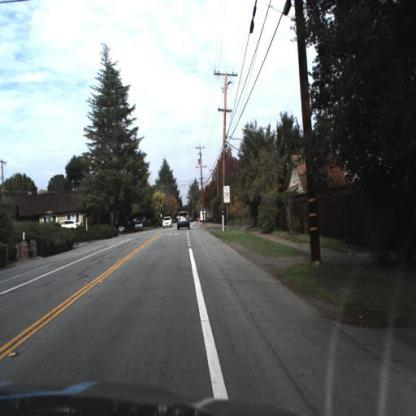car: (176, 209, 193, 237), (58, 220, 80, 238), (132, 216, 146, 237), (160, 213, 175, 232), (198, 209, 205, 225)
